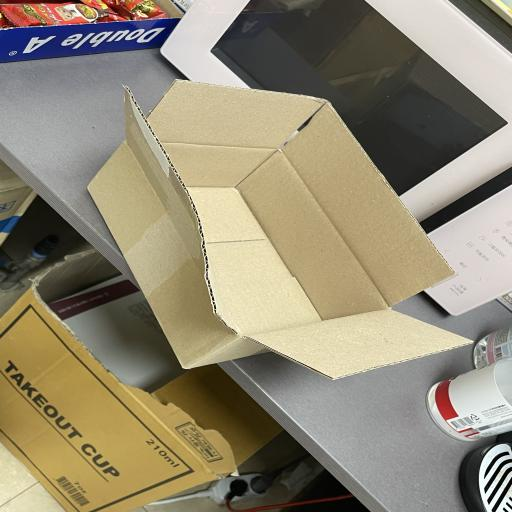box: (86, 78, 475, 382)
opened: (121, 79, 475, 382)
